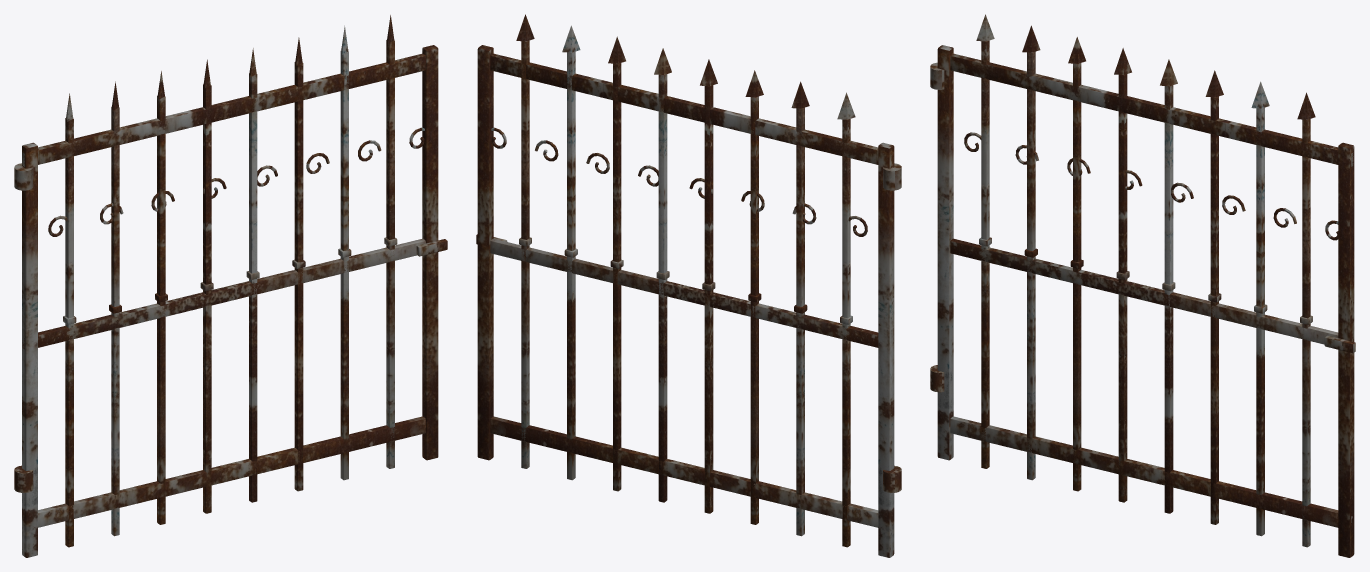
Rendered from gate_leaf.glb.
3 renders of one model, left to right at view 1: azimuth 30°, elevation 25°; view 2: azimuth 150°, elevation 25°; view 3: azimuth 330°, elevation 25°, orthographic.
Visible parts, largest first — view 1: gate_leaf; view 2: gate_leaf; view 3: gate_leaf.
Boxes of the visible parts, box(x1,y1,x2,y2) form: gate_leaf: box(14, 15, 447, 557); gate_leaf: box(476, 14, 901, 557); gate_leaf: box(930, 14, 1355, 557).
Bounding box in the file's own units: 1.03 × 1.05 × 0.042.
Materials: 1 (1 with a texture image).
